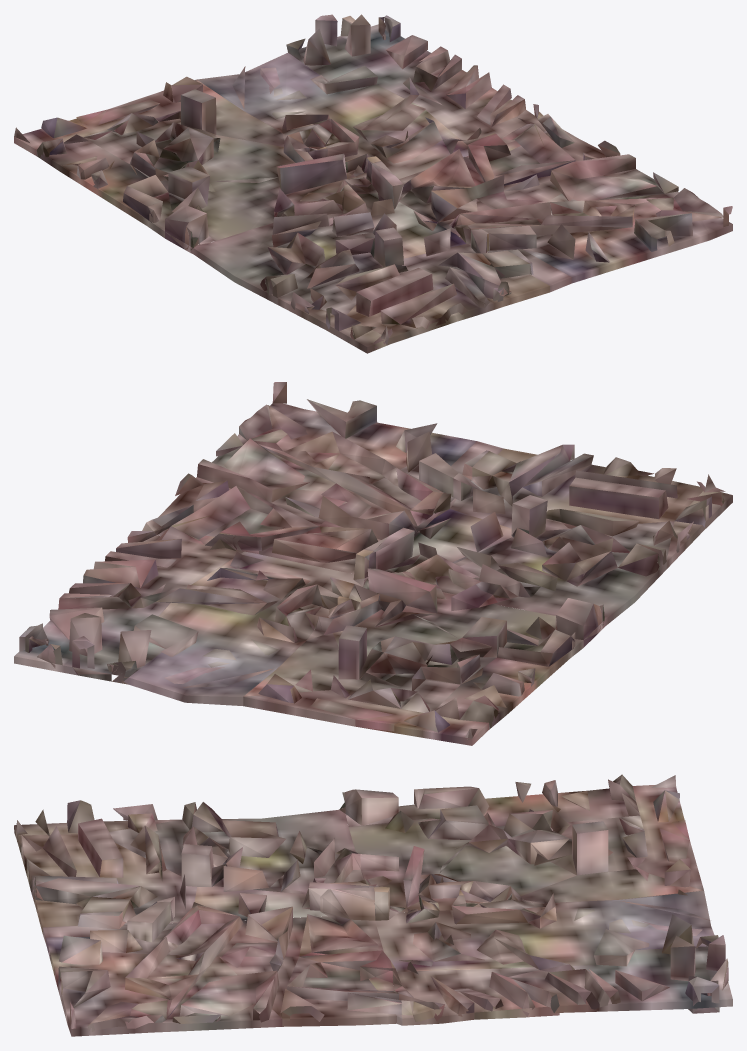
The picture shows the model from 3 angles, top to bottom: view 1: azimuth 30°, elevation 25°; view 2: azimuth 150°, elevation 25°; view 3: azimuth 270°, elevation 25°; orthographic projection. The views are drawn at different scales.
Visible parts, largest first — view 1: Mesh_0; view 2: Mesh_0; view 3: Mesh_0.
Part boxes in pixels (bbox=[...]): Mesh_0: bbox=[14, 14, 732, 353]; Mesh_0: bbox=[14, 382, 732, 745]; Mesh_0: bbox=[14, 774, 732, 1036].
Bounding box in the file's own units: 532 × 59.29 × 659.
2 materials, 2 textured.
